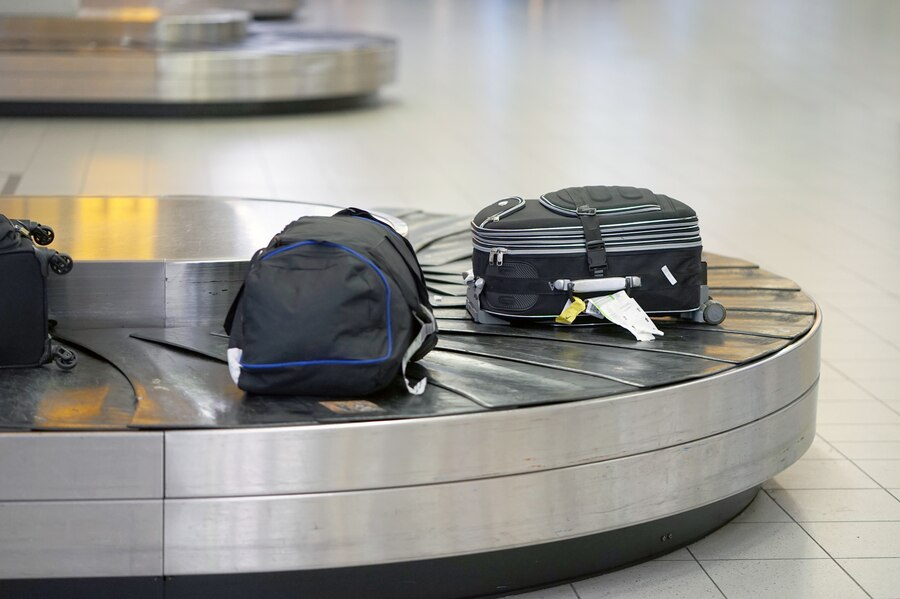baggage: (221, 206, 443, 414), (461, 183, 730, 347), (1, 199, 80, 384)
